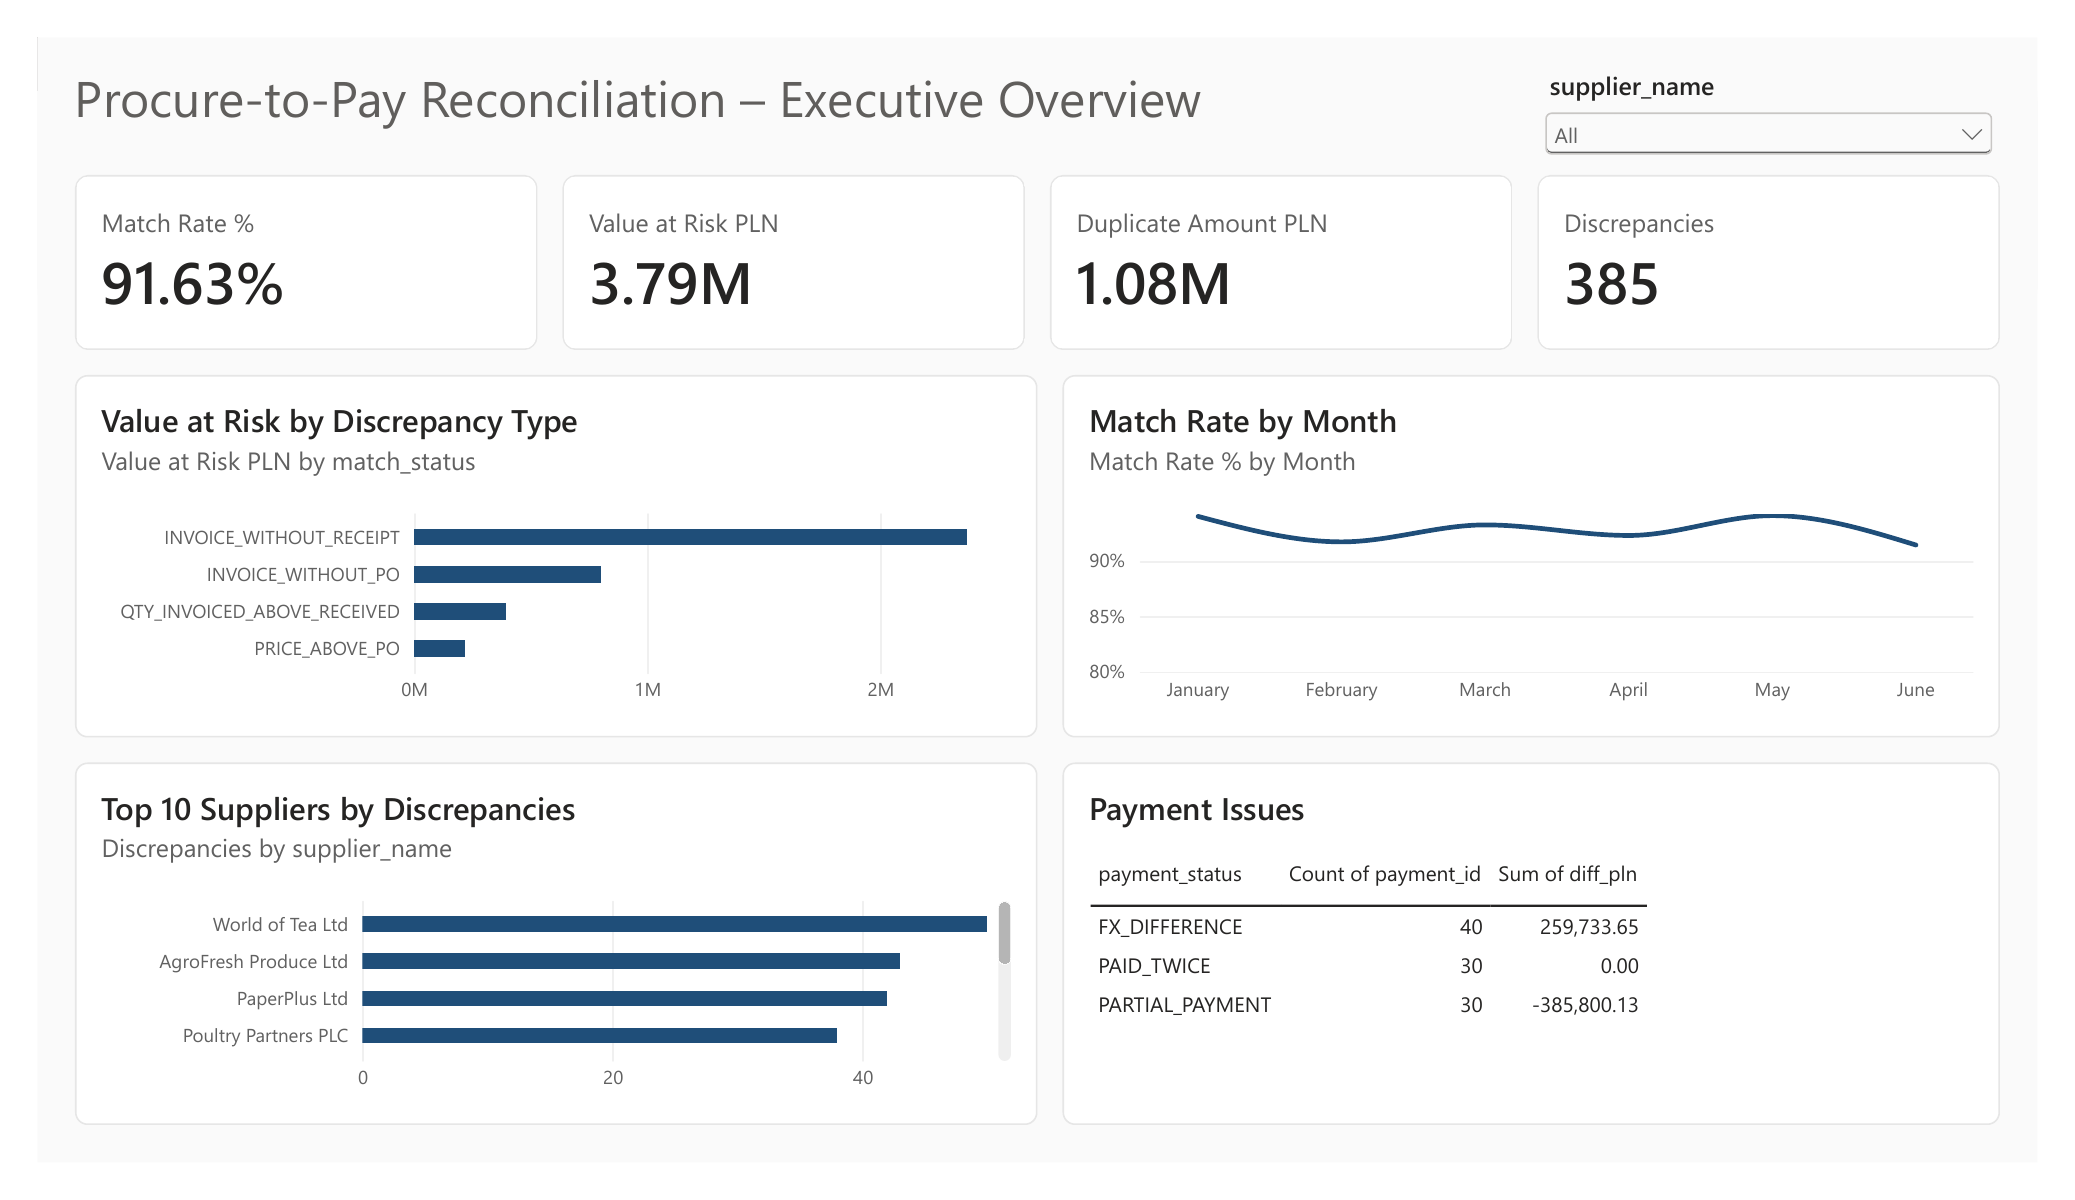

Layout of this report page (visuals, bound fields, positions):
{"tool":"powerbi","page":{"name":"Reconciliation - Overview","canvas":[1280,720],"ordinal":0},"visuals":[{"type":"cardVisual","fields":{"Data":["fact_three_way.Match Rate %"]},"box":[24,88,296,112],"z":0},{"type":"cardVisual","fields":{"Data":["fact_three_way.Value at Risk PLN"]},"box":[336,88,296,112],"z":1},{"type":"cardVisual","fields":{"Data":["fact_three_way.Duplicate Amount PLN"]},"box":[648,88,296,112],"z":2},{"type":"cardVisual","fields":{"Data":["fact_three_way.Discrepancies"]},"box":[960,88,296,112],"z":3},{"type":"textbox","box":[24,16,900,56],"z":4},{"type":"slicer","fields":{"Values":["dim_suppliers.supplier_name"]},"box":[960,20,296,56],"z":5},{"type":"clusteredBarChart","title":"Value at Risk by Discrepancy Type","fields":{"Category":["fact_three_way.match_status"],"Y":["fact_three_way.Value at Risk PLN"]},"box":[24,216,616,232],"z":6},{"type":"lineChart","title":"Match Rate by Month","fields":{"Category":["fact_three_way.po_month.Variation.Date Hierarchy.Month"],"Y":["fact_three_way.Match Rate %"]},"box":[656,216,600,232],"z":7},{"type":"clusteredBarChart","title":"Top 10 Suppliers by Discrepancies","fields":{"Category":["dim_suppliers.supplier_name"],"Y":["fact_three_way.Discrepancies"]},"box":[24,464,616,232],"z":8},{"type":"tableEx","title":"Payment Issues","fields":{"Values":["fact_payments.payment_status","fact_payments.payment_id","Sum(fact_payments.diff_pln)"]},"box":[656,464,600,232],"z":9}]}

Visuals, with their boxes on the page's 1280x720 design canvas (x1, y1, x2, y2). These are canvas units, not pixel positions in the 2075x1200 screenshot, which may show the page scaled, cropped or inside an application window:
cardVisual - fact_three_way.Match Rate %: crop(24, 88, 320, 200)
cardVisual - fact_three_way.Value at Risk PLN: crop(336, 88, 632, 200)
cardVisual - fact_three_way.Duplicate Amount PLN: crop(648, 88, 944, 200)
cardVisual - fact_three_way.Discrepancies: crop(960, 88, 1256, 200)
textbox: crop(24, 16, 924, 72)
slicer - dim_suppliers.supplier_name: crop(960, 20, 1256, 76)
"Value at Risk by Discrepancy Type" clusteredBarChart: crop(24, 216, 640, 448)
"Match Rate by Month" lineChart: crop(656, 216, 1256, 448)
"Top 10 Suppliers by Discrepancies" clusteredBarChart: crop(24, 464, 640, 696)
"Payment Issues" tableEx: crop(656, 464, 1256, 696)
